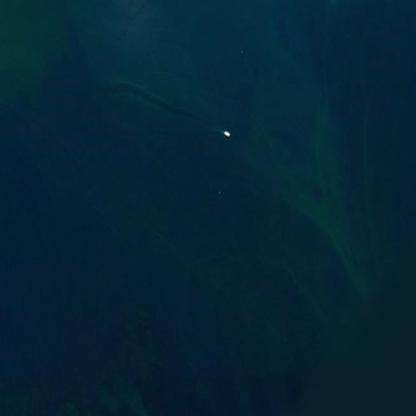ship: (216, 122, 234, 145)
